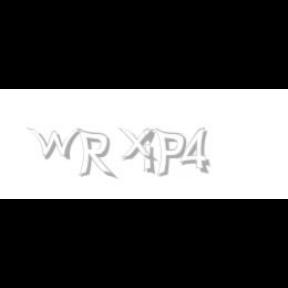4: (180, 128, 210, 174)
P: (155, 128, 187, 178)
R: (76, 128, 114, 180)
i: (143, 128, 159, 176)
w: (26, 128, 86, 160)
x: (119, 128, 161, 162)
